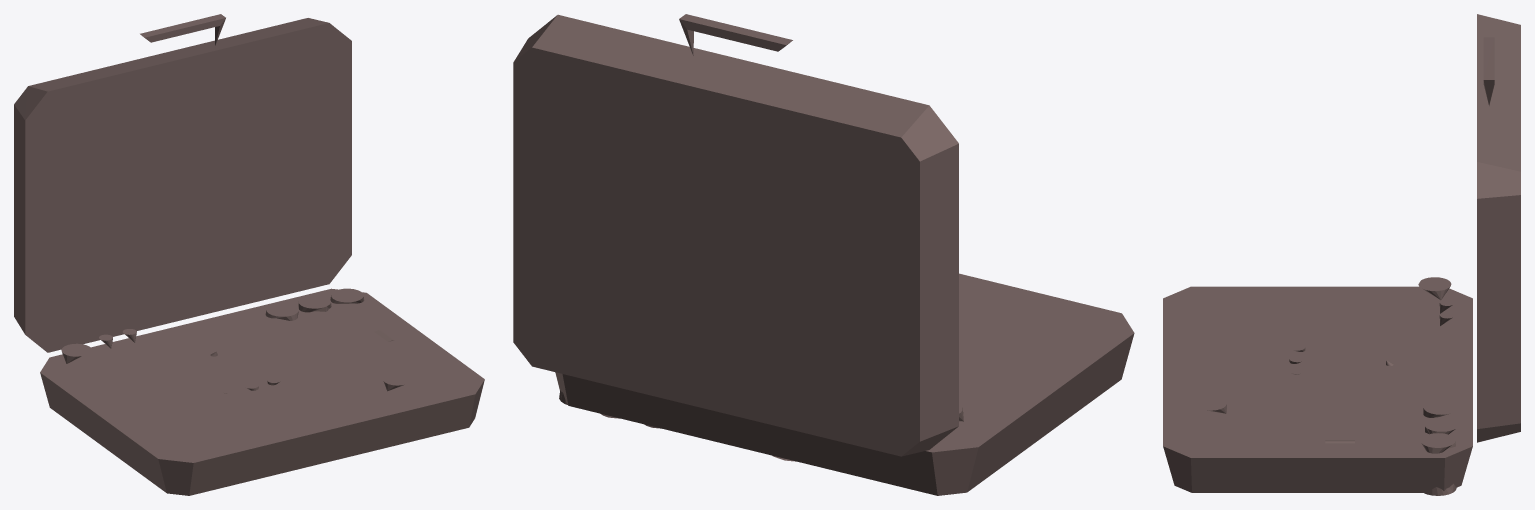
The model's file is first-aid-box.lod1.glb.
The picture shows the model from 3 angles, left to right: view 1: azimuth 30°, elevation 25°; view 2: azimuth 150°, elevation 25°; view 3: azimuth 270°, elevation 25°; orthographic projection. The views are drawn at different scales.
Visible parts, largest first — view 1: MetalCover_standardSurface15_0; view 2: MetalCover_standardSurface15_0; view 3: MetalCover_standardSurface15_0.
Part boxes in pixels (x1,y1,x2,y2): MetalCover_standardSurface15_0: (14,14,484,495); MetalCover_standardSurface15_0: (513,14,1134,495); MetalCover_standardSurface15_0: (1163,14,1520,495).
Size of the model in its own units: 0.6 by 0.5857 by 0.5295.
